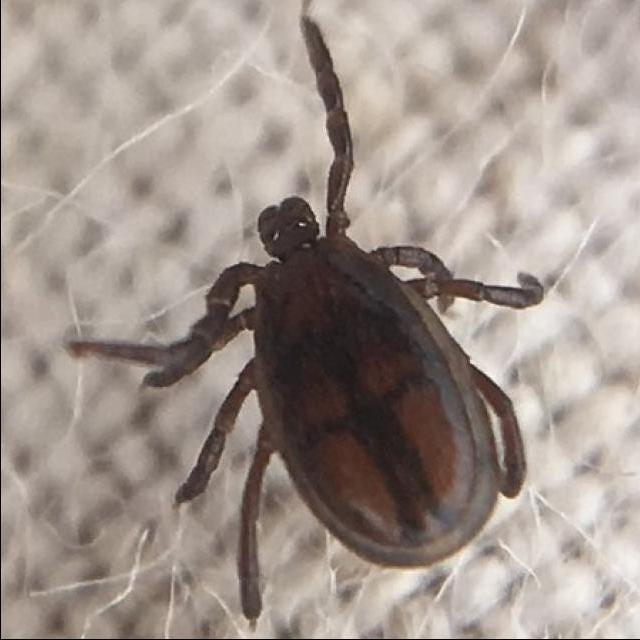Ixodes Ricinus-M: (63, 19, 544, 627)
